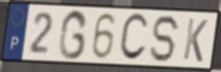2: (27, 11, 56, 56)
6: (89, 12, 118, 62)
C: (118, 12, 151, 63)
G: (57, 8, 90, 61)
K: (181, 16, 210, 64)
S: (149, 14, 183, 64)
